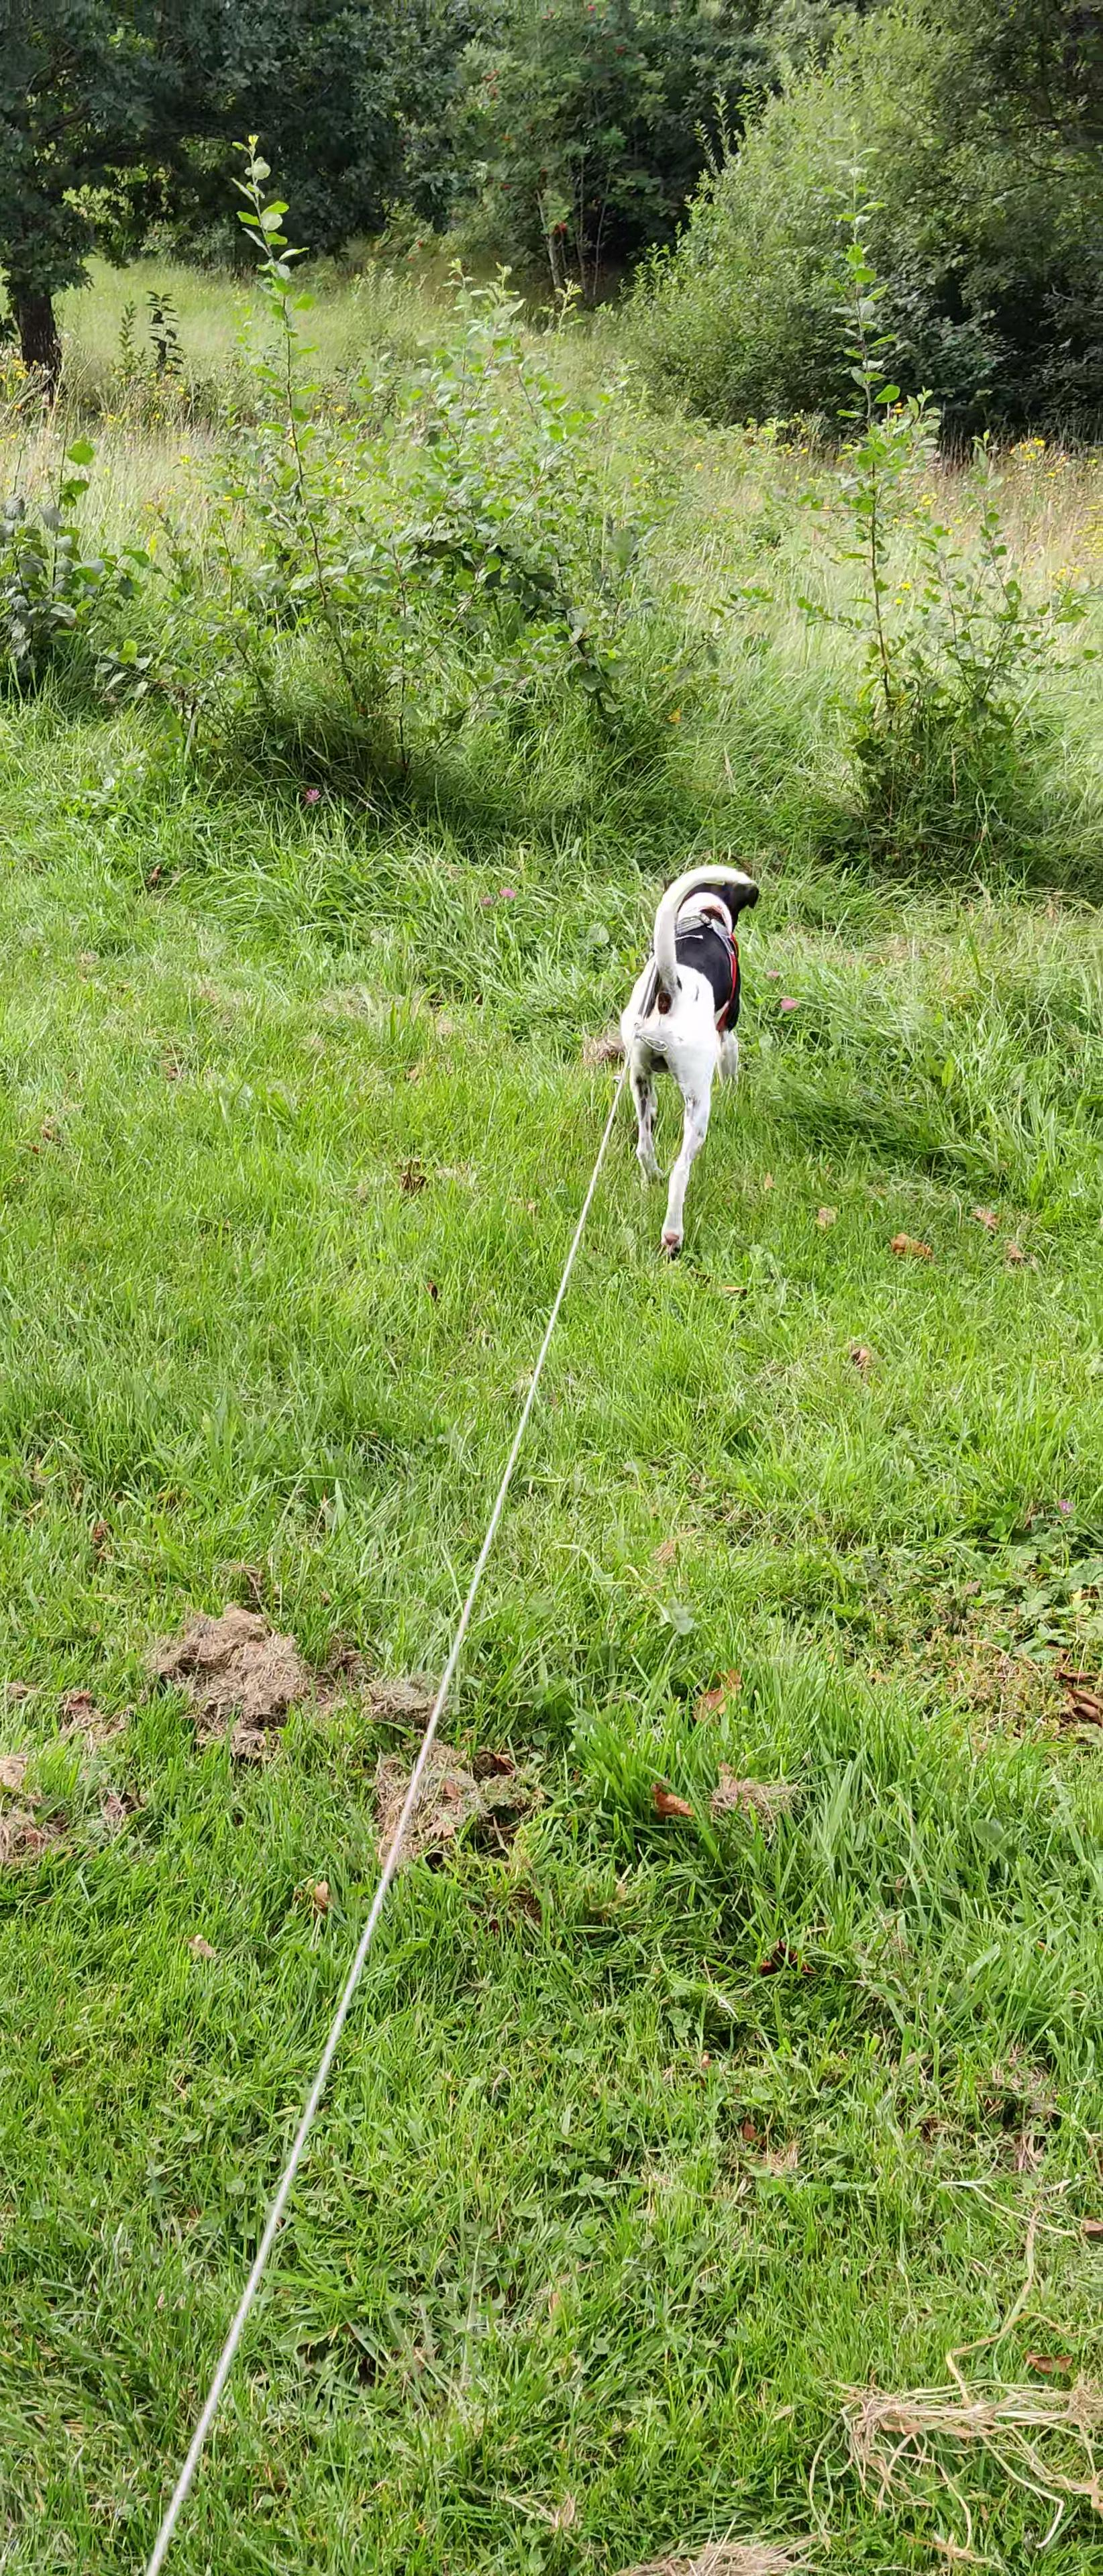Dog: (608, 854, 769, 1273)
